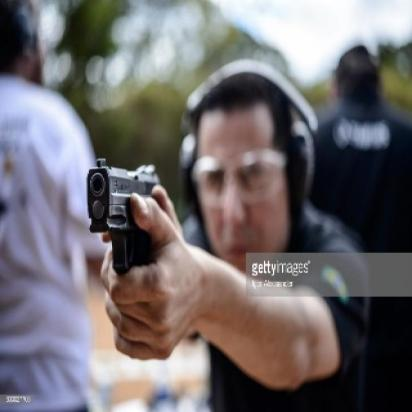Gun: (82, 158, 160, 274)
